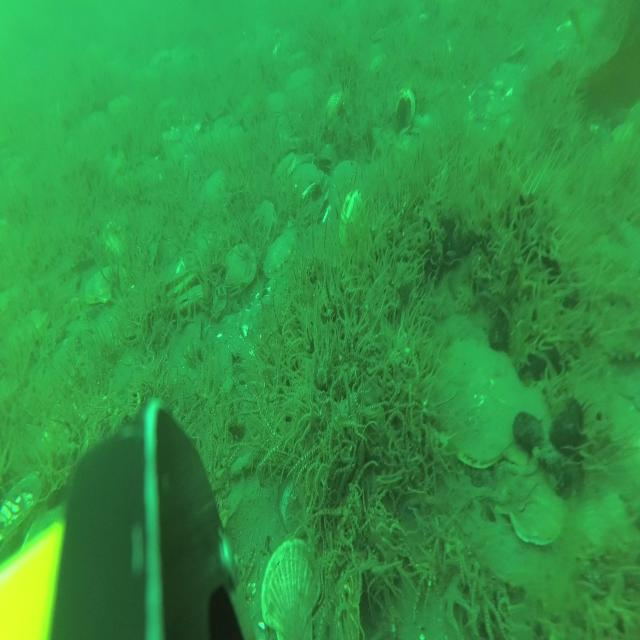holothurian: (597, 328, 640, 371)
scallop: (442, 340, 522, 475), (260, 541, 323, 640), (513, 474, 567, 543), (507, 389, 552, 471), (492, 438, 540, 508), (1, 473, 44, 535), (86, 262, 126, 308), (224, 248, 259, 297), (247, 204, 277, 252), (264, 227, 292, 277), (334, 155, 362, 201), (175, 284, 205, 322), (292, 163, 324, 198), (205, 170, 232, 209), (263, 86, 291, 121), (166, 270, 198, 298), (324, 87, 344, 127), (107, 90, 132, 120), (285, 64, 315, 88), (276, 152, 300, 178)
